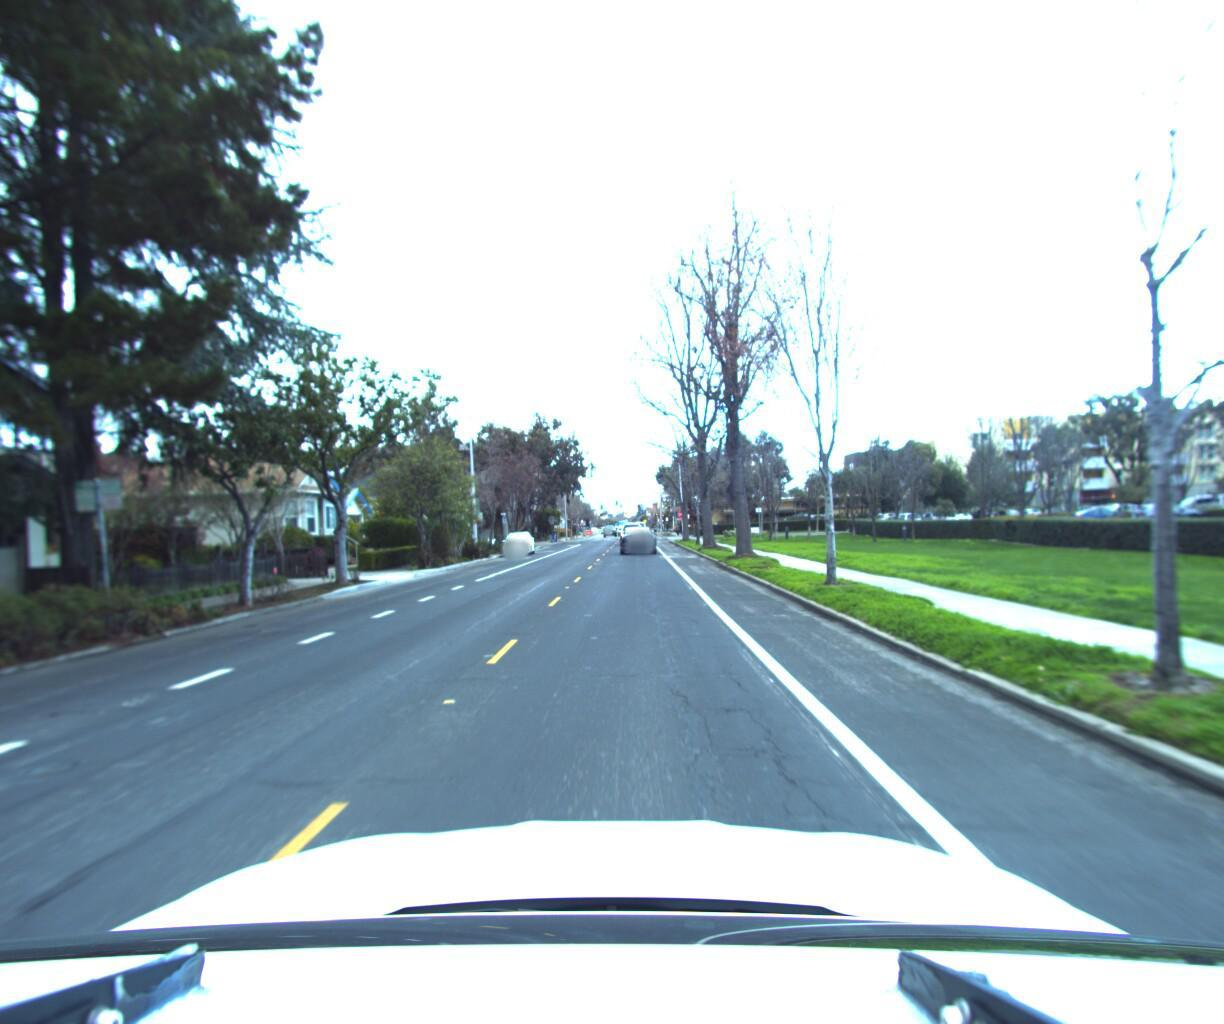car: (616, 519, 654, 553), (500, 529, 536, 557), (615, 515, 646, 546)
